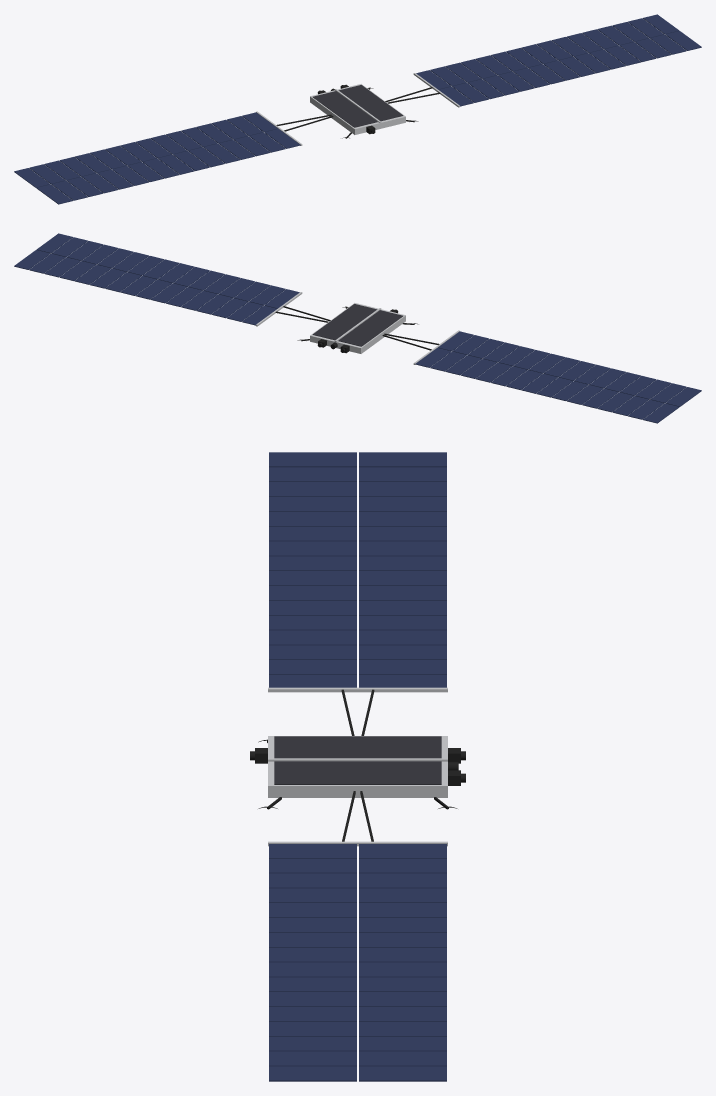
Rendered from starlink_v2mini_satvis.glb.
The picture shows the model from 3 angles, top to bottom: view 1: azimuth 30°, elevation 25°; view 2: azimuth 150°, elevation 25°; view 3: azimuth 270°, elevation 25°; orthographic projection. The views are drawn at different scales.
Visible parts, largest first — view 1: deck--1-0, deck-1-0, bus, port-wing-10-1, port-wing-3-1, starboard-wing-8-1, starboard-wing-11-1, starboard-wing-14-1, port-wing-2-1, port-wing-13-1, starboard-wing-1-1, starboard-wing-12-1 (+55 smaller); view 2: deck--1-0, deck-1-0, bus, port-wing-10-0, port-wing-3-0, starboard-wing-8-0, starboard-wing-11-0, starboard-wing-14-0, port-wing-2-0, port-wing-13-0, starboard-wing-1-0, starboard-wing-12-0 (+55 smaller); view 3: deck-1-0, deck--1-0, bus, port-wing-1-0, port-wing-1-1, port-wing-2-0, port-wing-2-1, port-wing-6-0, port-wing-6-1, port-wing-7-0, port-wing-7-1, port-wing-8-0 (+56 smaller).
Part boxes in pixels (x1=…): deck--1-0: x1=313, y1=91, x2=377, y2=127; deck-1-0: x1=338, y1=85, x2=403, y2=121; bus: x1=310, y1=84, x2=405, y2=134; port-wing-10-1: x1=589, y1=49, x2=625, y2=69; port-wing-3-1: x1=483, y1=75, x2=519, y2=95; starboard-wing-8-1: x1=143, y1=158, x2=179, y2=178; starboard-wing-11-1: x1=97, y1=169, x2=133, y2=189; starboard-wing-14-1: x1=51, y1=180, x2=87, y2=200; port-wing-2-1: x1=468, y1=79, x2=504, y2=99; port-wing-13-1: x1=635, y1=38, x2=671, y2=58; starboard-wing-1-1: x1=249, y1=132, x2=285, y2=152; starboard-wing-12-1: x1=82, y1=173, x2=118, y2=193; deck--1-0: x1=338, y1=310, x2=402, y2=346; deck-1-0: x1=312, y1=304, x2=377, y2=340; bus: x1=310, y1=303, x2=405, y2=353; port-wing-10-0: x1=90, y1=268, x2=126, y2=288; port-wing-3-0: x1=196, y1=294, x2=232, y2=314; starboard-wing-8-0: x1=536, y1=377, x2=572, y2=397; starboard-wing-11-0: x1=582, y1=388, x2=618, y2=408; starboard-wing-14-0: x1=628, y1=399, x2=664, y2=419; port-wing-2-0: x1=211, y1=298, x2=247, y2=318; port-wing-13-0: x1=44, y1=257, x2=80, y2=277; starboard-wing-1-0: x1=430, y1=351, x2=466, y2=371; starboard-wing-12-0: x1=597, y1=392, x2=633, y2=412; deck-1-0: x1=274, y1=761, x2=441, y2=784; deck--1-0: x1=274, y1=736, x2=441, y2=758; bus: x1=268, y1=736, x2=447, y2=797; port-wing-1-0: x1=359, y1=858, x2=446, y2=873; port-wing-1-1: x1=269, y1=858, x2=356, y2=873; port-wing-2-0: x1=359, y1=873, x2=446, y2=888; port-wing-2-1: x1=269, y1=873, x2=356, y2=888; port-wing-6-0: x1=359, y1=932, x2=446, y2=947; port-wing-6-1: x1=269, y1=932, x2=356, y2=947; port-wing-7-0: x1=359, y1=947, x2=446, y2=962; port-wing-7-1: x1=269, y1=947, x2=356, y2=962; port-wing-8-0: x1=359, y1=962, x2=446, y2=977.
Bounding box in the file's own units: 33.86 × 0.54 × 4.92.
